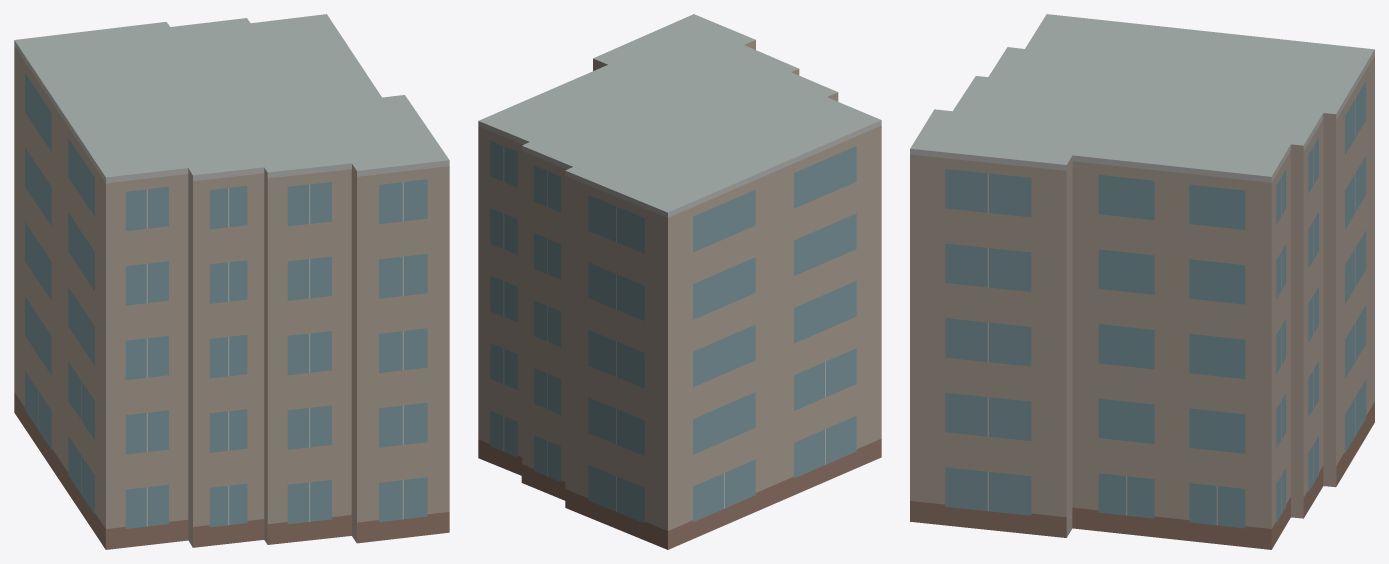
The model's file is survey-upis-32542150.glb.
3 views of the same model, side by side, from view 1: azimuth 30°, elevation 25°; view 2: azimuth 150°, elevation 25°; view 3: azimuth 270°, elevation 25° (orthographic). The views are drawn at different scales.
Visible parts, largest first — view 1: survey-upis-32542150.tmp; view 2: survey-upis-32542150.tmp; view 3: survey-upis-32542150.tmp.
Boxes of the visible parts, x1,y1,x2,y2 form: survey-upis-32542150.tmp: [14, 14, 449, 549]; survey-upis-32542150.tmp: [478, 14, 881, 549]; survey-upis-32542150.tmp: [910, 14, 1374, 549].
Size of the model in its own units: 14.57 by 15.55 by 17.57.
